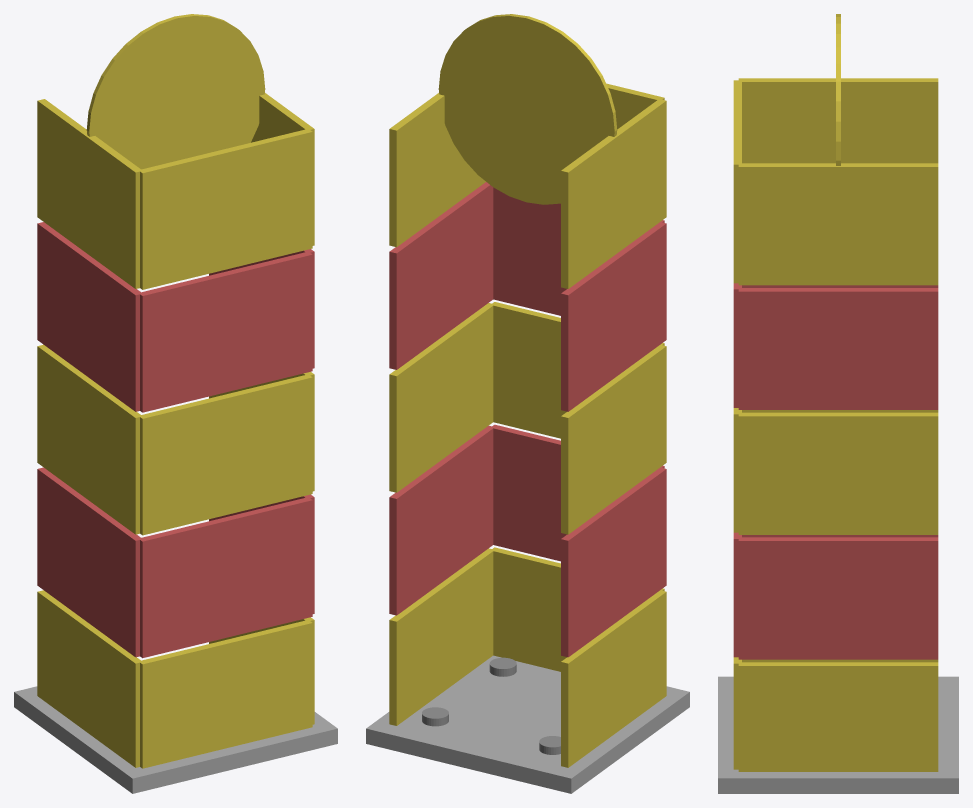
The model's file is guard-column-protector-redyellow.glb.
3 renders of one model, left to right at view 1: azimuth 30°, elevation 25°; view 2: azimuth 150°, elevation 25°; view 3: azimuth 270°, elevation 25°, orthographic.
Visible parts, largest first — view 1: front_stripe_2, front_stripe_4, front_stripe_1, front_stripe_3, top_cap, front_stripe_0, left_stripe_4, left_stripe_1, left_stripe_3, left_stripe_2, left_stripe_0, base_plate (+5 smaller); view 2: top_cap, base_plate, left_stripe_4, left_stripe_3, left_stripe_2, left_stripe_1, right_stripe_2, right_stripe_1, right_stripe_3, left_stripe_0, right_stripe_0, right_stripe_4 (+5 smaller); view 3: right_stripe_2, right_stripe_1, right_stripe_4, right_stripe_3, right_stripe_0, left_stripe_4, base_plate, front_stripe_4, left_stripe_0, front_stripe_1, front_stripe_3, top_cap (+5 smaller).
Part boxes in pixels (x1,y1,x2,y2): front_stripe_2: (138,374,312,535); front_stripe_4: (138,128,312,289); front_stripe_1: (138,497,312,658); front_stripe_3: (140,252,312,412); top_cap: (86,14,265,169); front_stripe_0: (140,620,312,768); left_stripe_4: (37,99,140,288); left_stripe_1: (37,467,142,657); left_stripe_3: (37,222,142,411); left_stripe_2: (37,344,140,534); left_stripe_0: (37,590,142,767); base_plate: (14,686,337,793); top_cap: (438,14,617,204); base_plate: (366,655,689,793); left_stripe_4: (561,99,666,288); left_stripe_3: (561,222,666,411); left_stripe_2: (561,345,666,534); left_stripe_1: (561,468,666,657); right_stripe_2: (389,303,494,492); right_stripe_1: (389,425,494,615); right_stripe_3: (389,182,493,369); left_stripe_0: (561,590,666,767); right_stripe_0: (389,548,494,725); right_stripe_4: (389,93,485,247); right_stripe_2: (738,412,938,534); right_stripe_1: (738,537,938,659); right_stripe_4: (738,163,938,285); right_stripe_3: (738,288,938,409); right_stripe_0: (738,662,938,771); left_stripe_4: (738,78,938,163); base_plate: (718,676,958,793); front_stripe_4: (733,80,741,283); left_stripe_0: (742,659,938,662); front_stripe_1: (733,532,741,657); front_stripe_3: (733,283,741,407); top_cap: (836,14,840,165).
Size of the model in its own units: 140 by 462 by 140.
